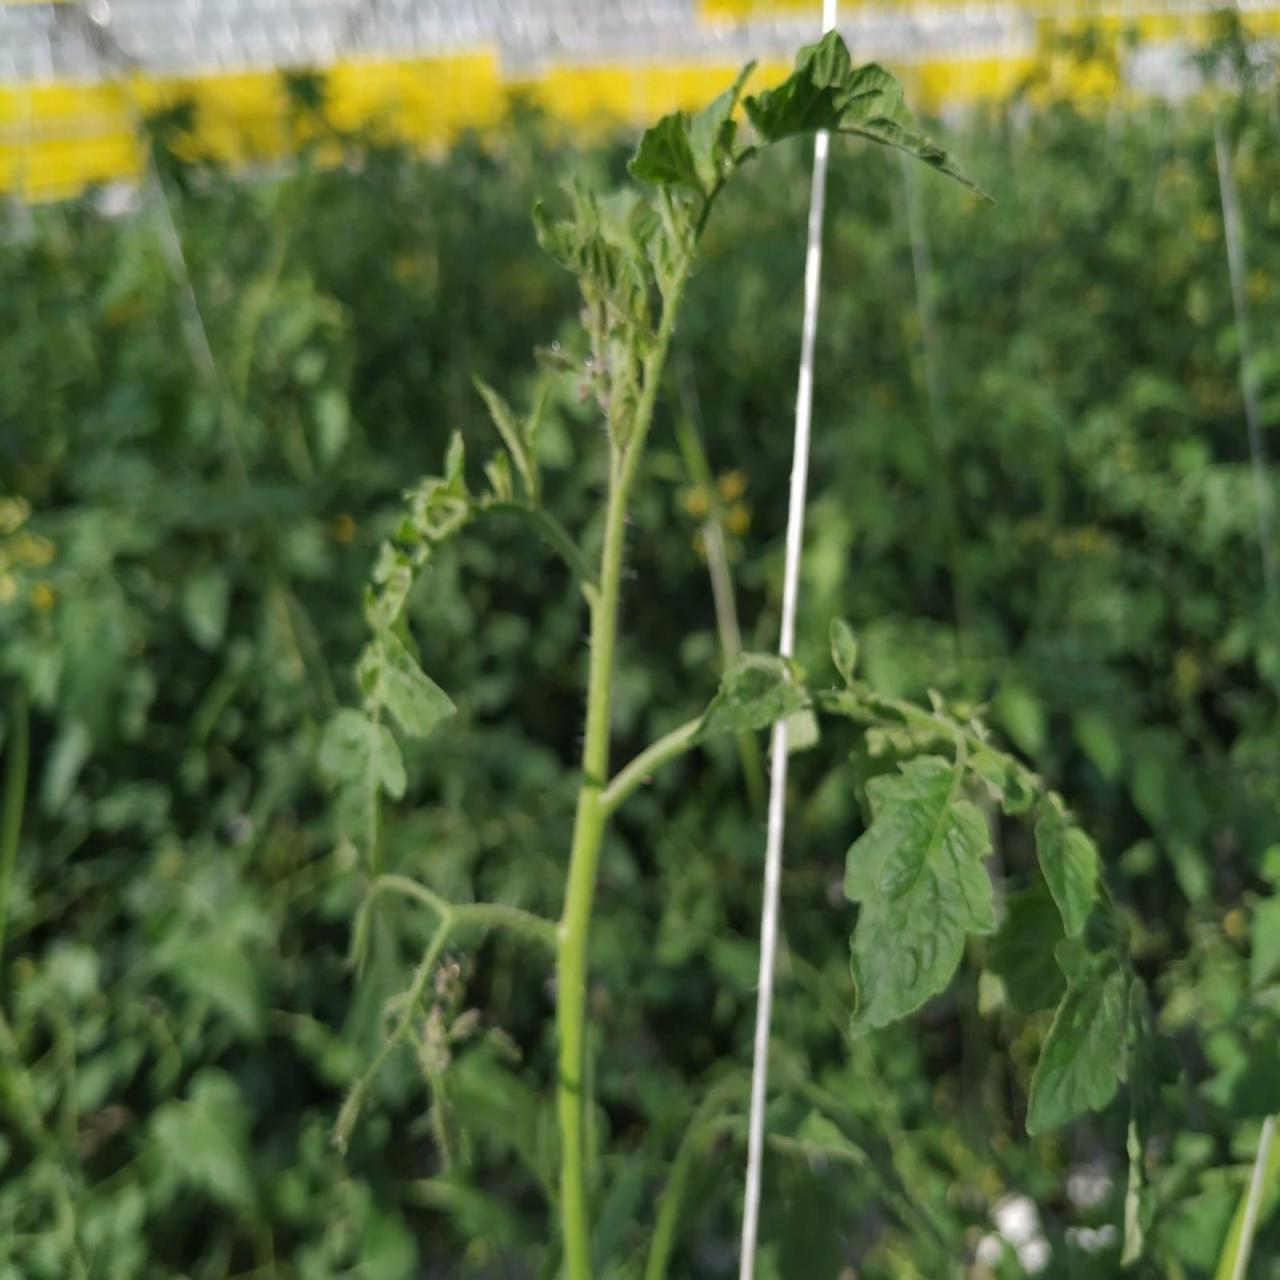T_L_H: (846, 758, 996, 1032)
T_L_R: (744, 30, 971, 186)
T_S_H: (559, 481, 626, 1278)
